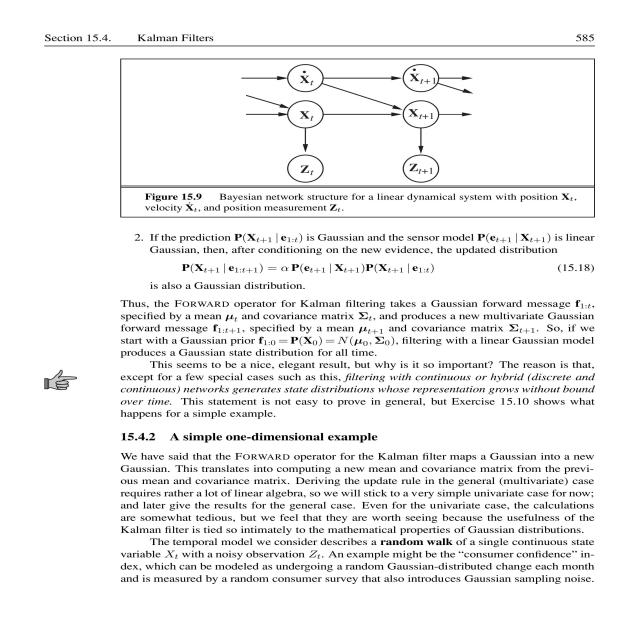diagram: (107, 46, 640, 220)
